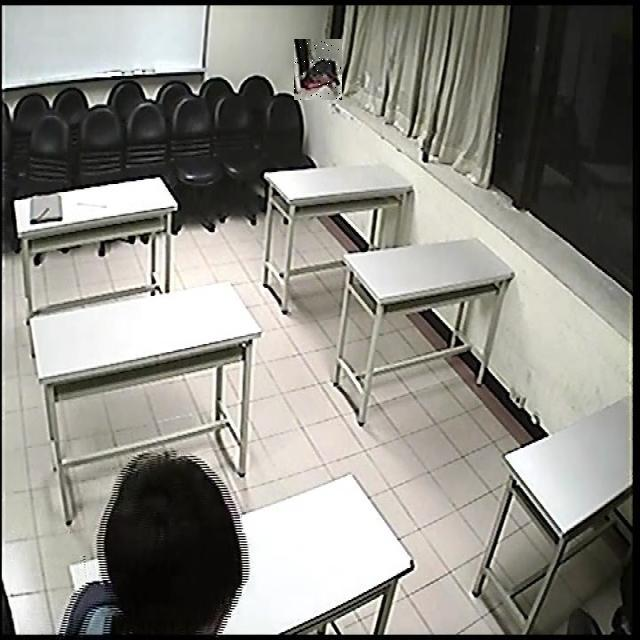abandoned-object: (294, 39, 342, 100)
